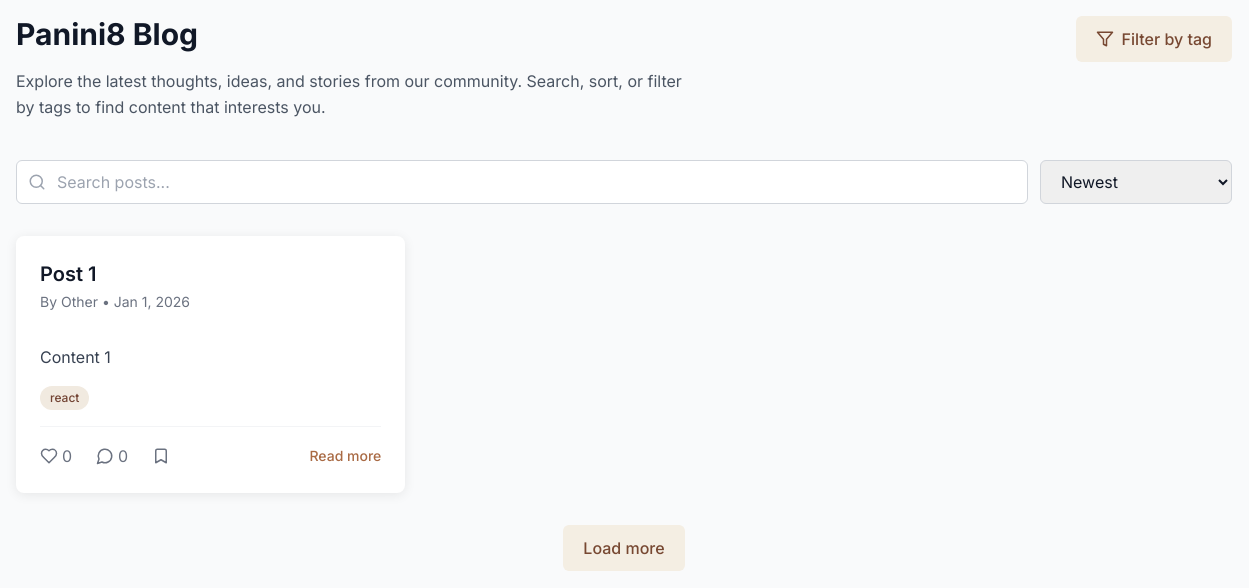
Test case: Home › loads more pages without duplicating posts
This screenshot has width=1249, height=588.
Expected: the heading "Post 1" is shown, [40, 262, 96, 286]
Click the button "Load more" at (624, 548), box [563, 525, 685, 571]
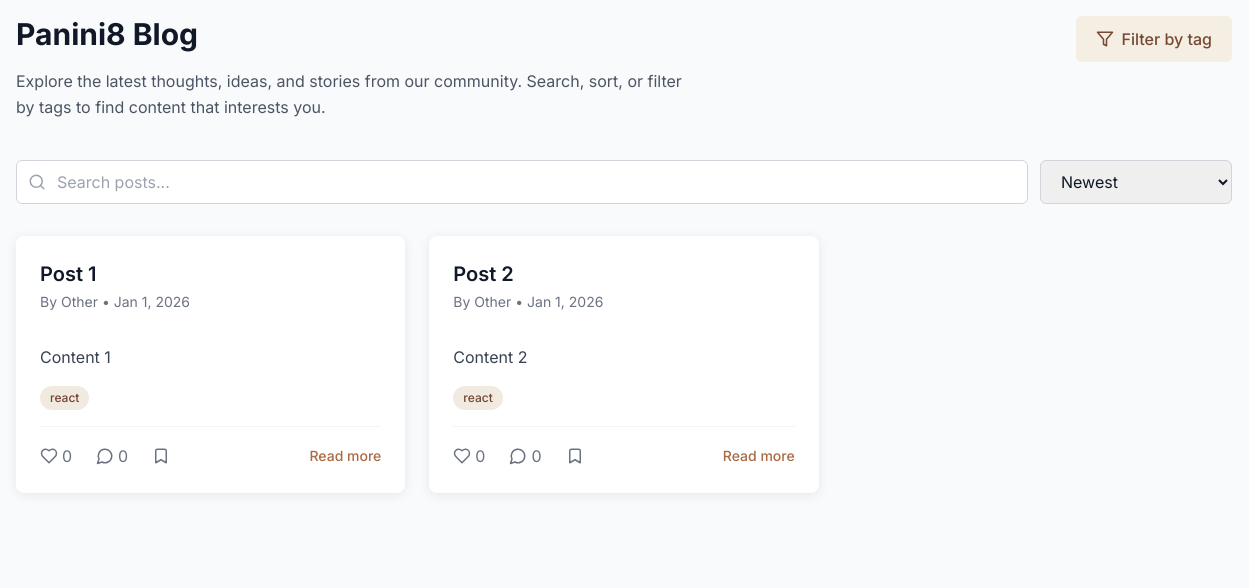
Expected: the number of headings "Post 1" is 1, [40, 262, 96, 286]
Expected: the heading "Post 2" is shown, [453, 262, 514, 286]
Expected: the button "Load more" is gone
